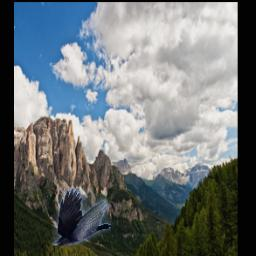Crow: (53, 188, 112, 246)
